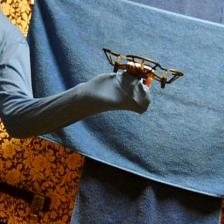drone: (102, 47, 186, 93)
